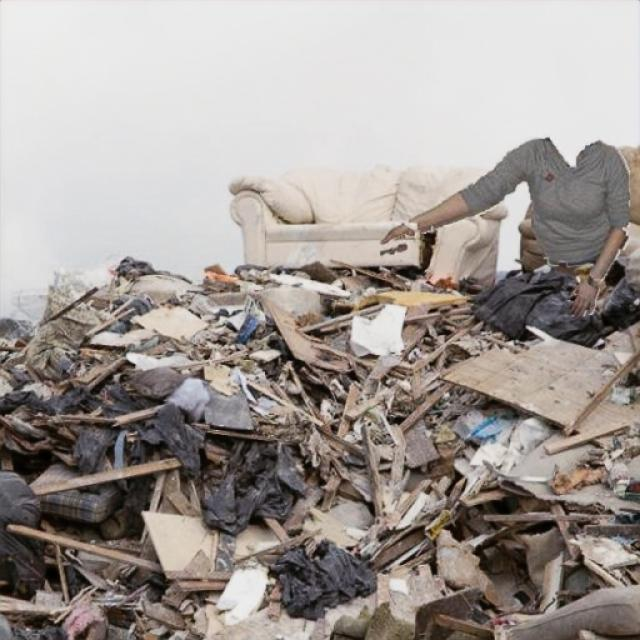Person in Rubble: (380, 137, 629, 315)
